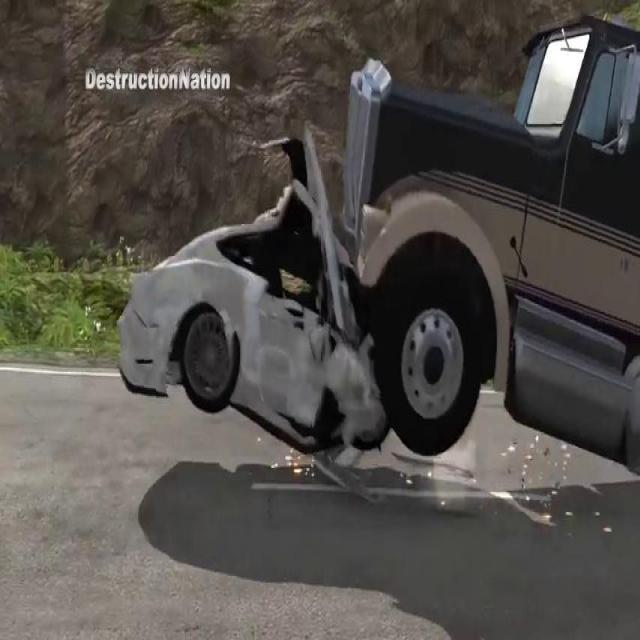severe: (108, 6, 640, 486)
